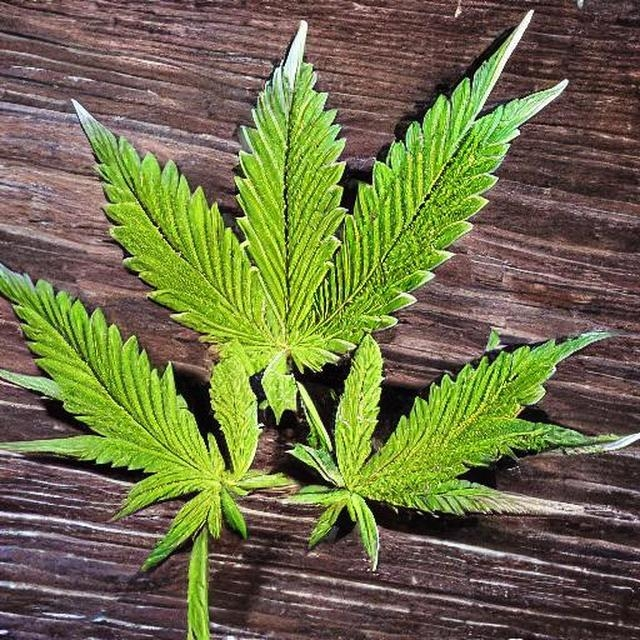Marijuana Leaf: (0, 9, 639, 639), (66, 9, 570, 427), (0, 256, 293, 639), (279, 325, 638, 572)
